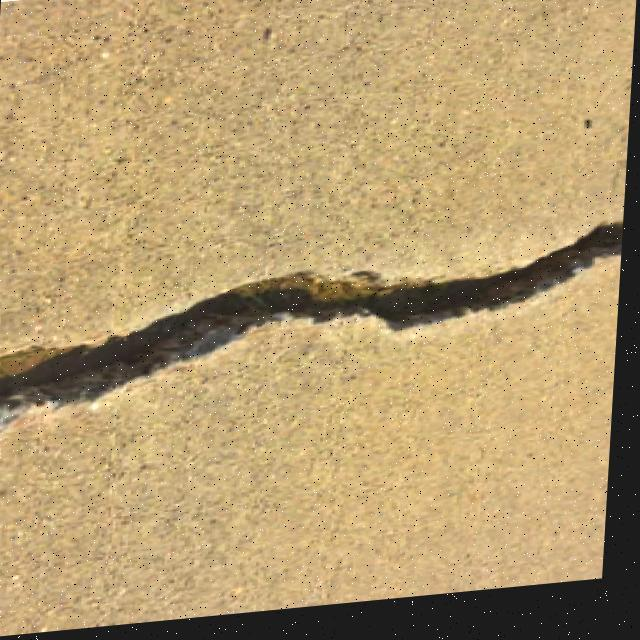horizontal crack: (0, 223, 621, 424)
